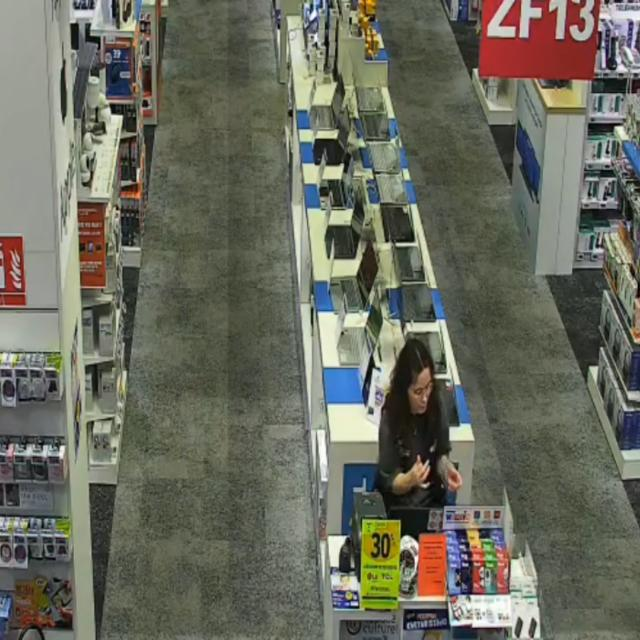hands: (408, 456, 429, 487), (447, 465, 462, 491)
person: (377, 339, 462, 508)
